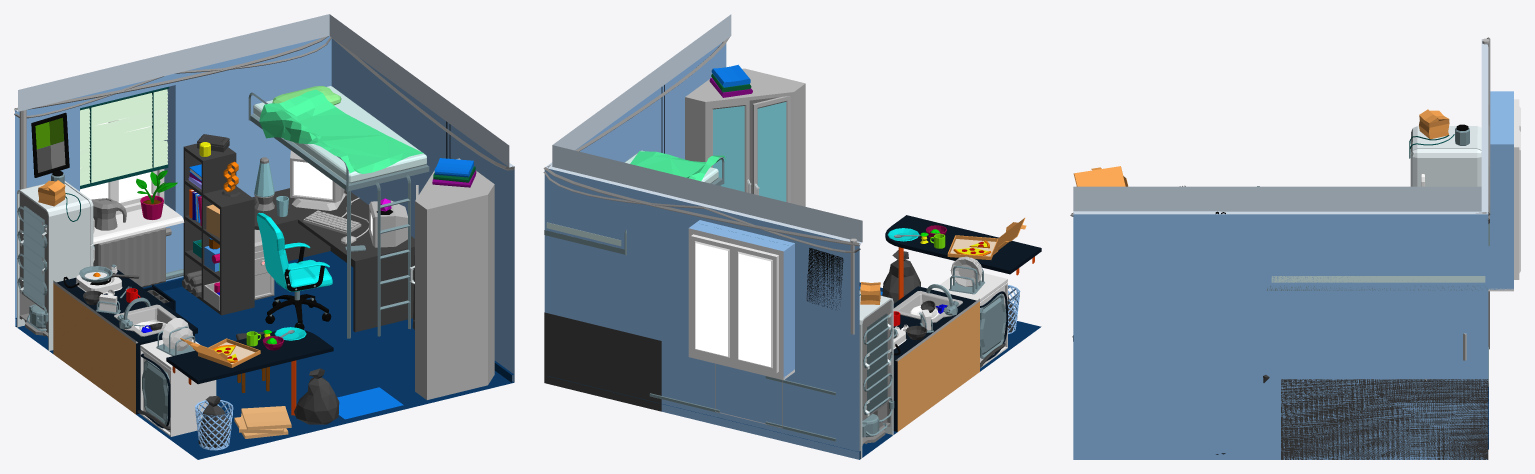
The model's file is lowpoly_room.glb.
3 views of the same model, side by side, from view 1: azimuth 30°, elevation 25°; view 2: azimuth 150°, elevation 25°; view 3: azimuth 270°, elevation 25° (orthographic). The views are drawn at different scales.
Visible parts, largest first — view 1: Box010.001; view 2: Box010.001; view 3: Box010.001.
Part boxes in pixels (x1,y1,x2,y2): Box010.001: (14, 14, 514, 459); Box010.001: (543, 14, 1041, 459); Box010.001: (1070, 37, 1520, 459).
Bounding box in the file's own units: 1421 × 1024 × 1520.
7 materials, 1 textured.
